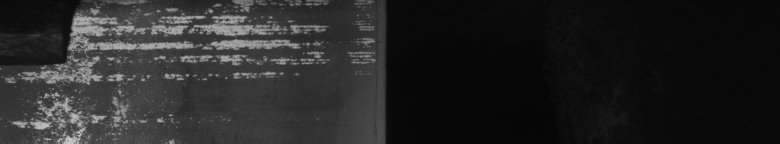kb: (5, 4, 375, 136)
